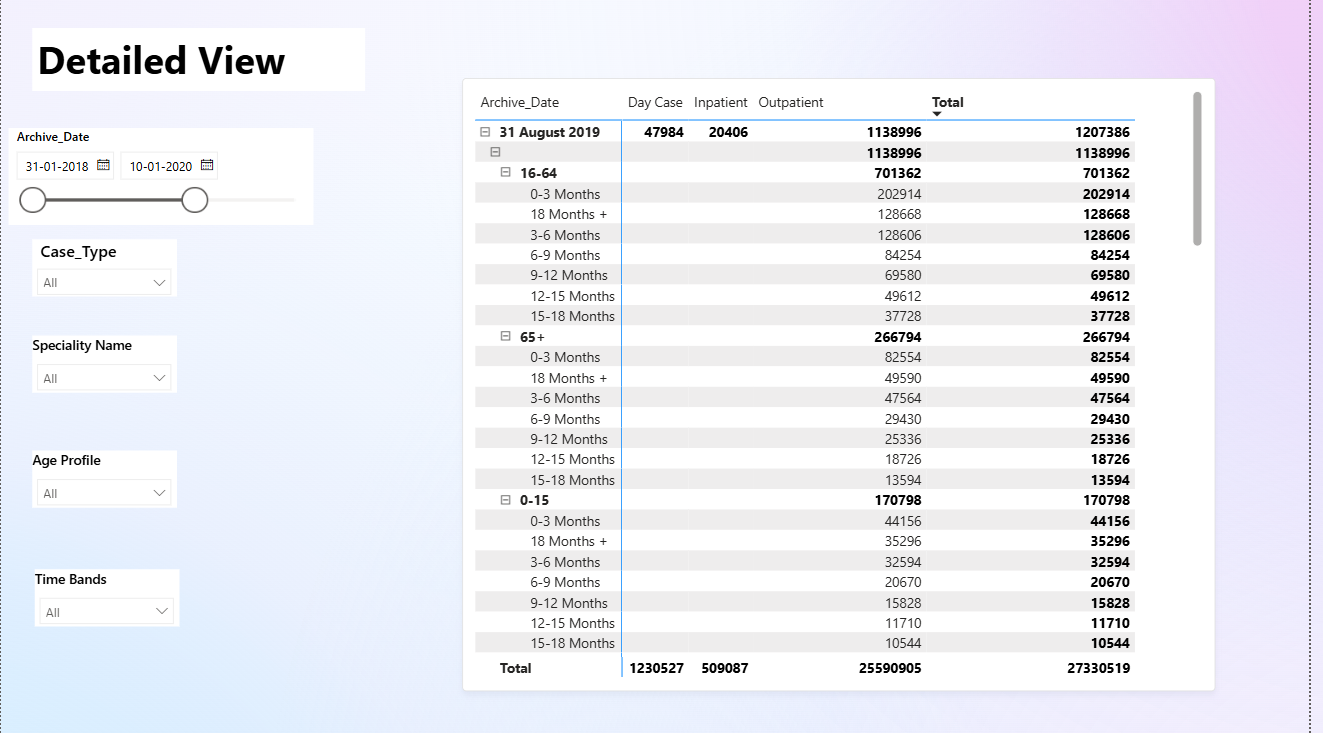

This screenshot's page, from the dashboard's own definition file:
{"tool":"powerbi","page":{"name":"Details","canvas":[1280,720],"ordinal":1},"visuals":[{"type":"slicer","fields":{"Values":["All_Data.Archive_Date"]},"box":[6.9,127.6,297.8,94.7],"z":0},{"type":"slicer","fields":{"Values":["All_Data.Case_Type"]},"box":[30.2,236,141.3,56.3],"z":1000},{"type":"slicer","title":"Speciality Name","fields":{"Values":["All_Data.Specialty_Name"]},"box":[30.2,330.7,141.3,56.3],"z":2000},{"type":"textbox","box":[30.2,28.8,325.2,61.7],"z":3000},{"type":"slicer","title":"Age Profile","fields":{"Values":["All_Data.Age_Profile"]},"box":[30.2,443.2,141.3,56.3],"z":4000},{"type":"slicer","title":"Time Bands","fields":{"Values":["All_Data.Time_Bands"]},"box":[32.9,558.5,141.3,56.3],"z":5000},{"type":"pivotTable","fields":{"Rows":["All_Data.Archive_Date","All_Data.Specialty_Name","All_Data.Age_Profile","All_Data.Time_Bands"],"Columns":["All_Data.Case_Type"],"Values":["Sum(All_Data.Total)"]},"box":[451.5,78.2,736.9,599.7],"z":6000}]}

Visuals, with their boxes in screenshot pixels (x1, y1, x2, y2), scaled from the page's 1280x720 canvas onto the 1323x733 screenshot:
slicer - All_Data.Archive_Date: select_region(7, 130, 315, 226)
slicer - All_Data.Case_Type: select_region(31, 240, 177, 298)
"Speciality Name" slicer: select_region(31, 337, 177, 394)
textbox: select_region(31, 29, 367, 92)
"Age Profile" slicer: select_region(31, 451, 177, 509)
"Time Bands" slicer: select_region(34, 569, 180, 626)
pivotTable - All_Data.Archive_Date x All_Data.Specialty_Name: select_region(467, 80, 1228, 690)
